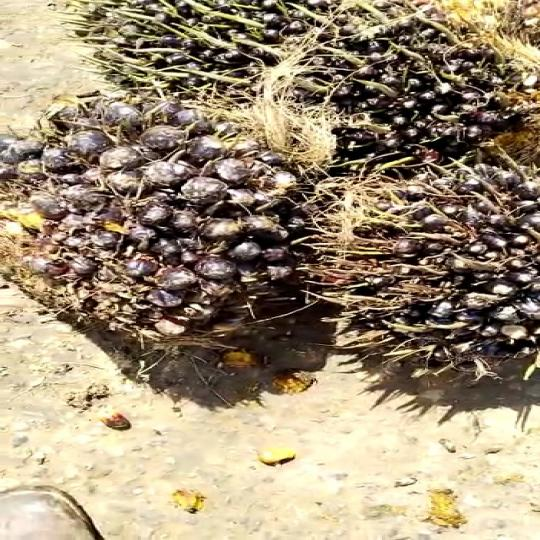mentah: (0, 84, 350, 352), (68, 0, 538, 163), (291, 150, 540, 367)
